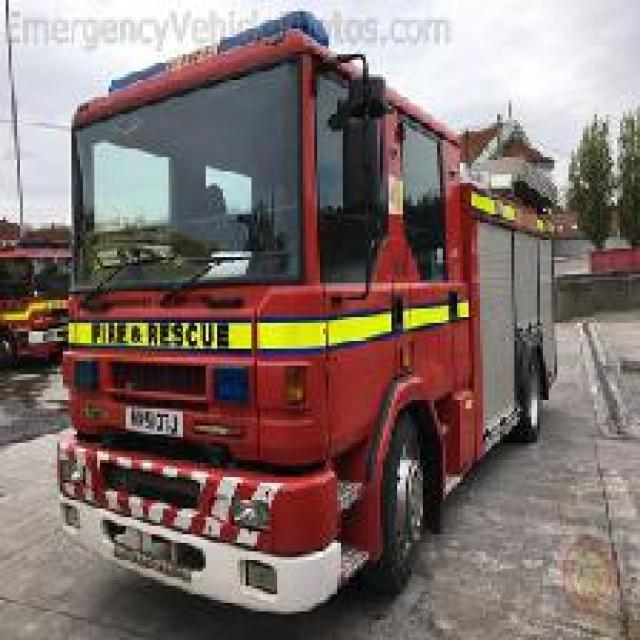emergency: (52, 10, 560, 618)
